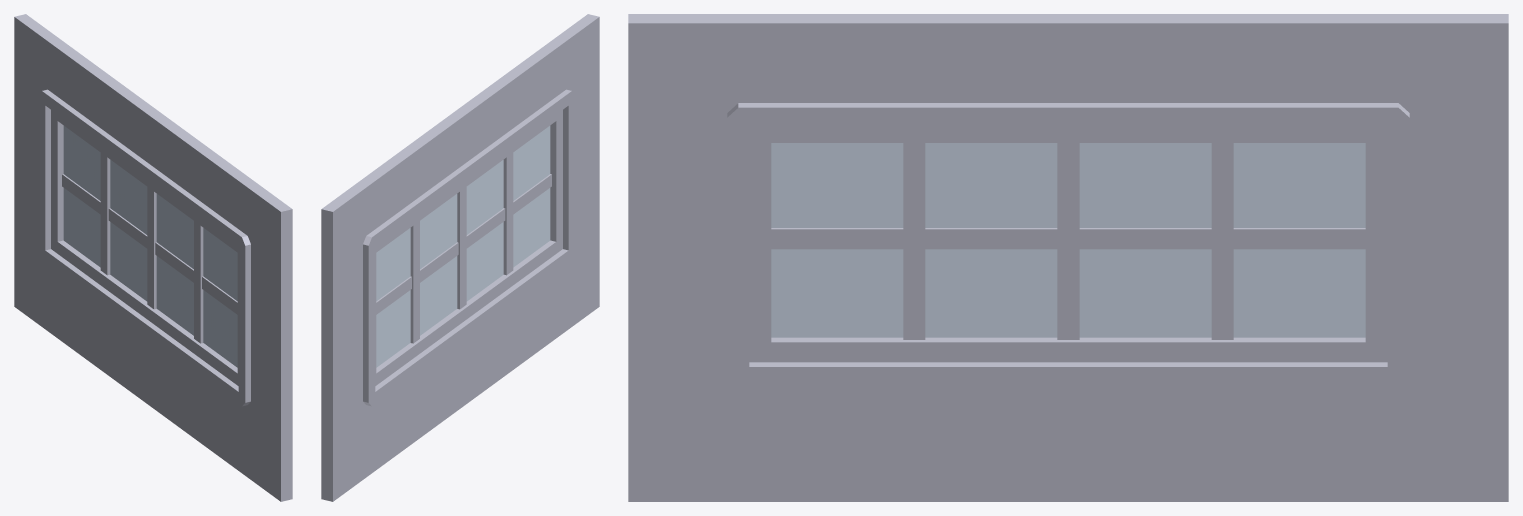
The model's file is wall-window-wide-square-detailed.obj.
3 renders of one model, left to right at view 1: azimuth 30°, elevation 25°; view 2: azimuth 150°, elevation 25°; view 3: azimuth 270°, elevation 25°, orthographic. The views are drawn at different scales.
Bounding box in the file's own units: 0.2 × 2.4 × 4.
